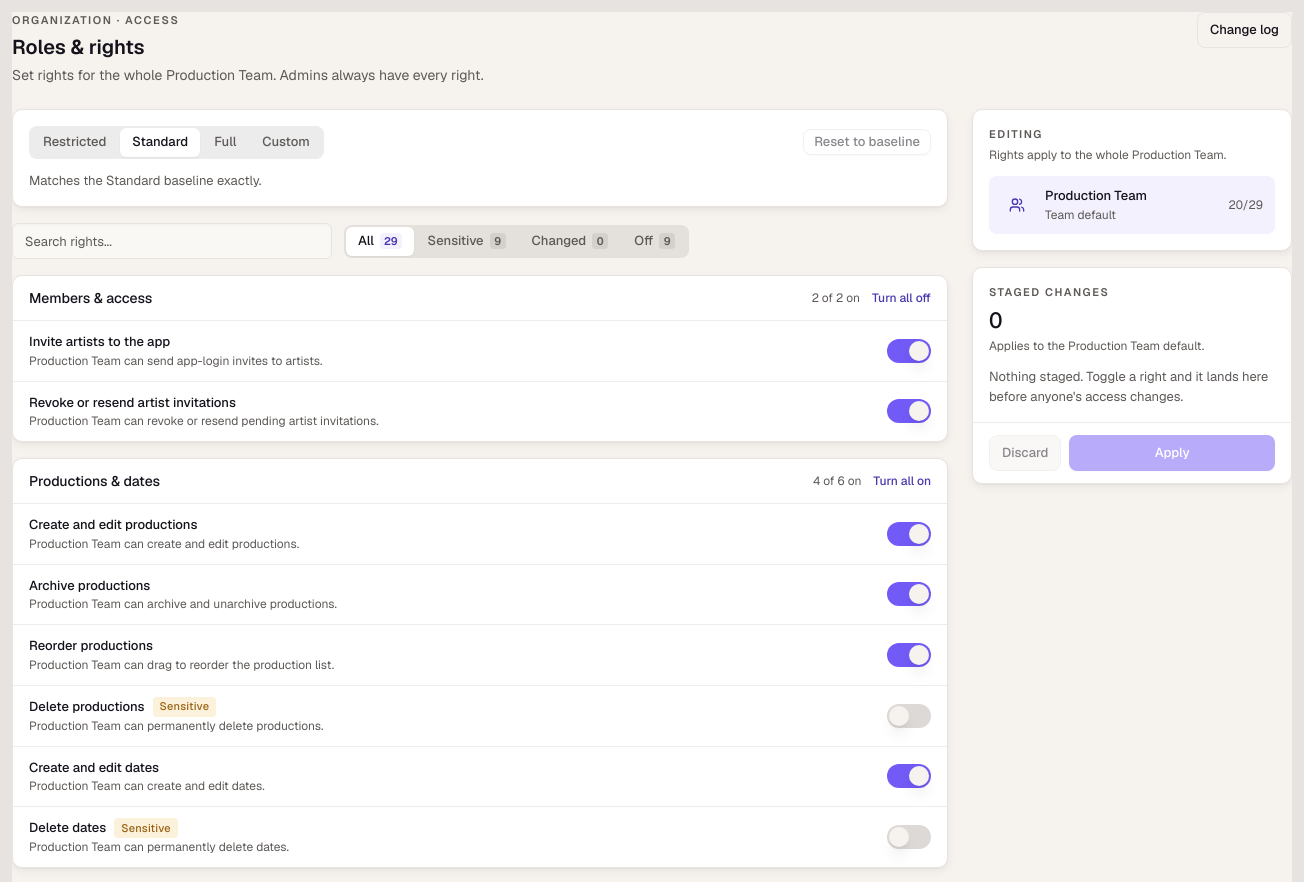
RolesRightsTab › labels the preset-diff line against the selected preset, not the stored baseline
The image size is (1304, 882).
Click the tab "Full".
click(225, 142)  # box [202, 128, 248, 156]
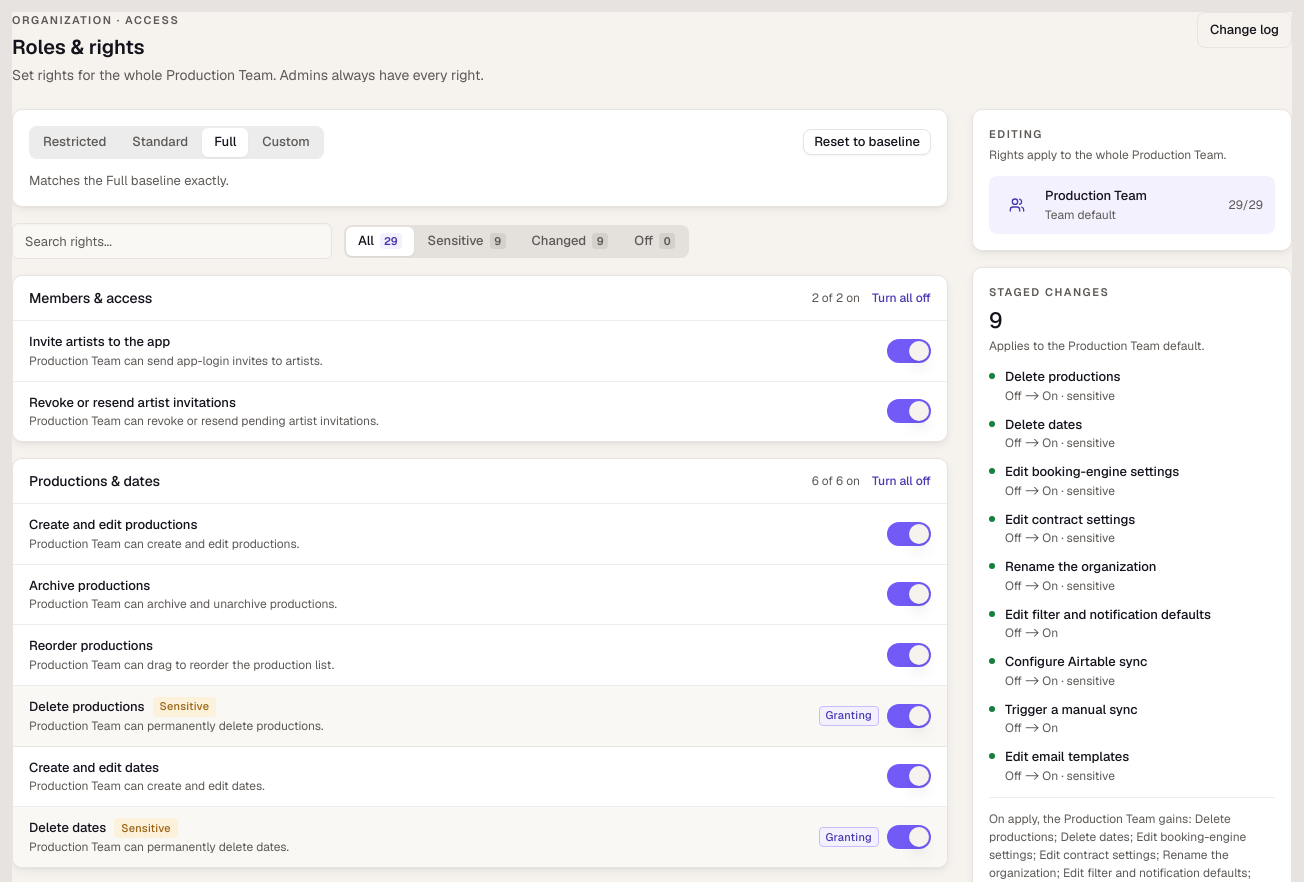
Expected: the text "Matches the Full baseline exactly." is shown, [29, 172, 229, 188]
Click the switch named "Delete productions".
click(909, 716)  # box [887, 704, 931, 728]
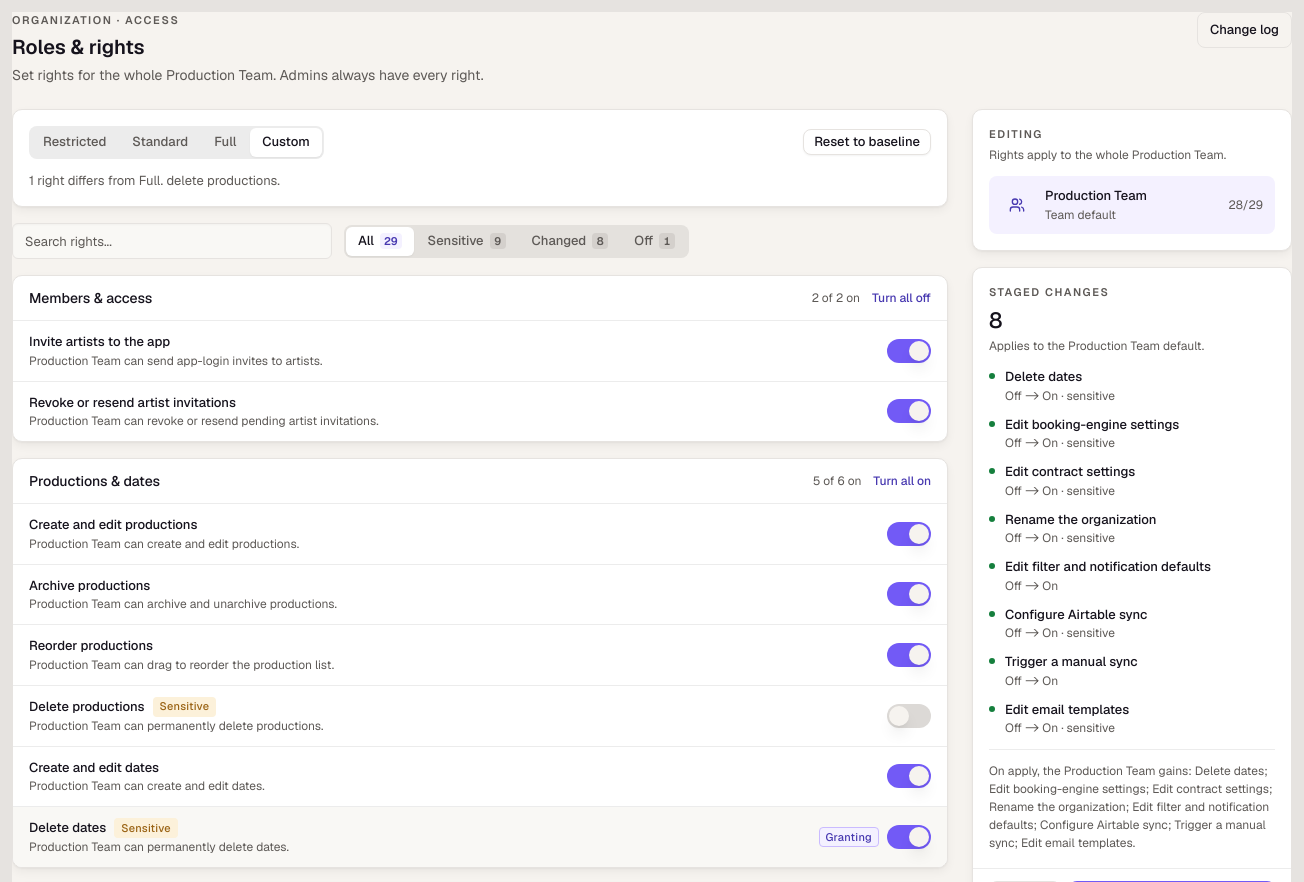
Expected: the text "1 right differs from Full. delete productions." is shown, [29, 172, 280, 188]
